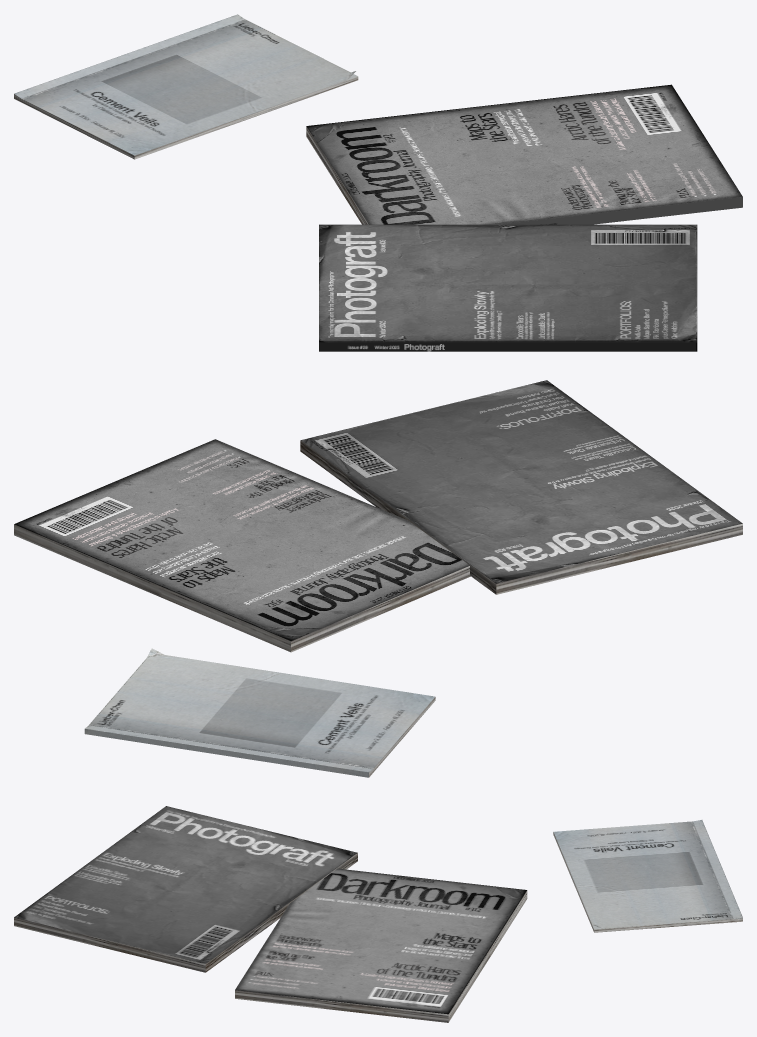
File: apartment_magazines.fbx
The picture shows the model from 3 angles, top to bottom: view 1: azimuth 30°, elevation 25°; view 2: azimuth 150°, elevation 25°; view 3: azimuth 270°, elevation 25°; orthographic projection. The views are drawn at different scales.
Visible parts, largest first — view 1: Plane010, Plane012, Plane011; view 2: Plane012, Plane010, Plane011; view 3: Plane010, Plane012, Plane011.
Boxes of the visible parts, x1,y1,x2,y2 form: Plane010: (319,224,697,351); Plane012: (306,84,742,224); Plane011: (14,14,358,159); Plane012: (14,439,470,652); Plane010: (300,380,742,594); Plane011: (84,648,435,777); Plane010: (14,806,357,972); Plane012: (235,868,527,1022); Plane011: (553,820,742,932).
Bounding box in the file's own units: 97.35 × 2.21 × 145.
